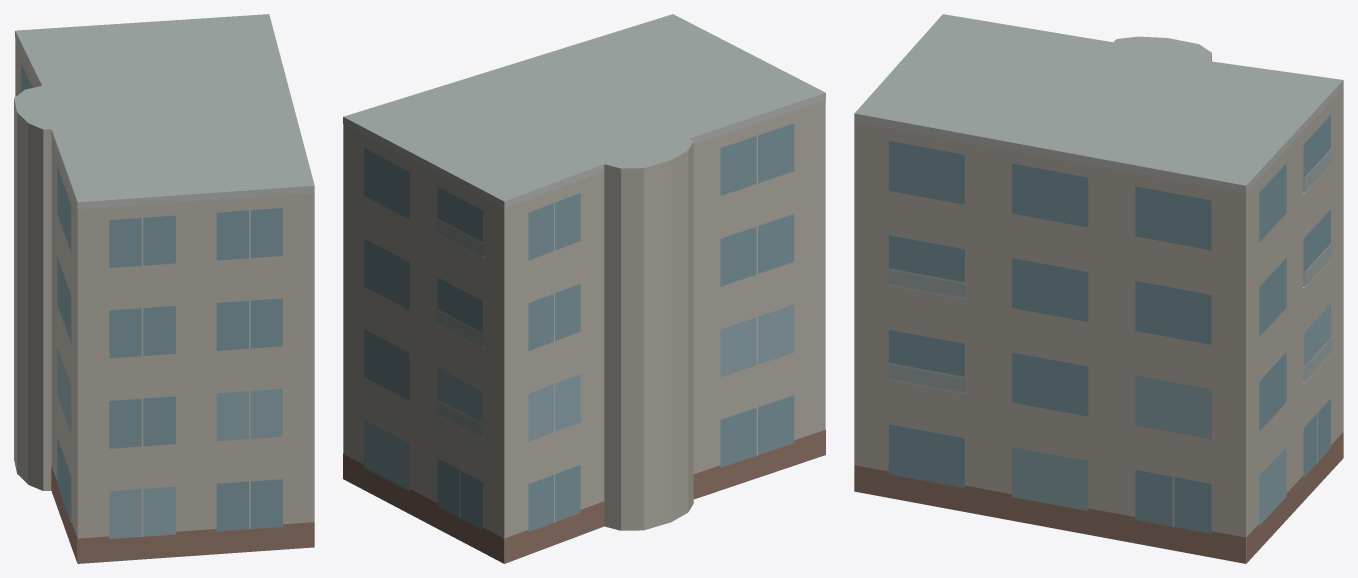
File: survey-upis-32888599.glb
The picture shows the model from 3 angles, left to right: view 1: azimuth 30°, elevation 25°; view 2: azimuth 150°, elevation 25°; view 3: azimuth 270°, elevation 25°; orthographic projection. The views are drawn at different scales.
Parts seen in each view (by area): view 1: survey-upis-32888599.tmp; view 2: survey-upis-32888599.tmp; view 3: survey-upis-32888599.tmp.
Boxes of the visible parts, <box> form: survey-upis-32888599.tmp: <box>14,14,314,563</box>; survey-upis-32888599.tmp: <box>343,14,825,563</box>; survey-upis-32888599.tmp: <box>854,14,1343,563</box>.
Bounding box in the file's own units: 11.9 × 12.2 × 14.32.
